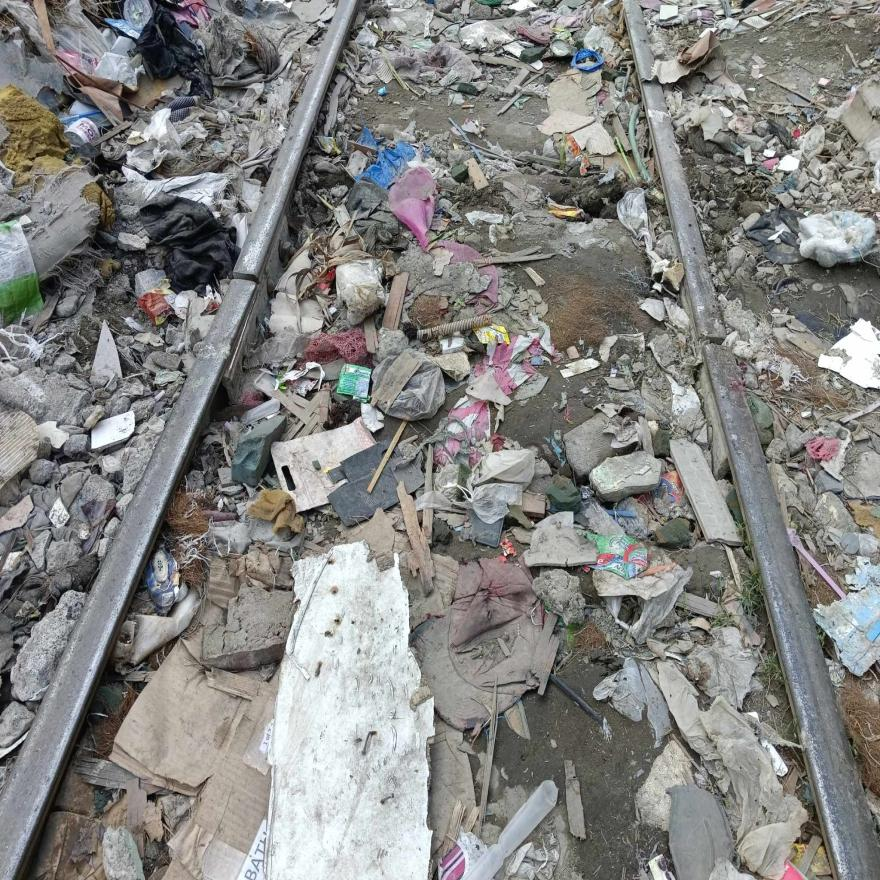railway-gap: (675, 298, 750, 388), (209, 236, 279, 324)
